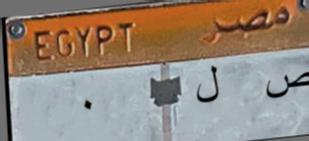0: (77, 92, 99, 117)
laam: (193, 58, 227, 110)
saad: (260, 67, 309, 102)
